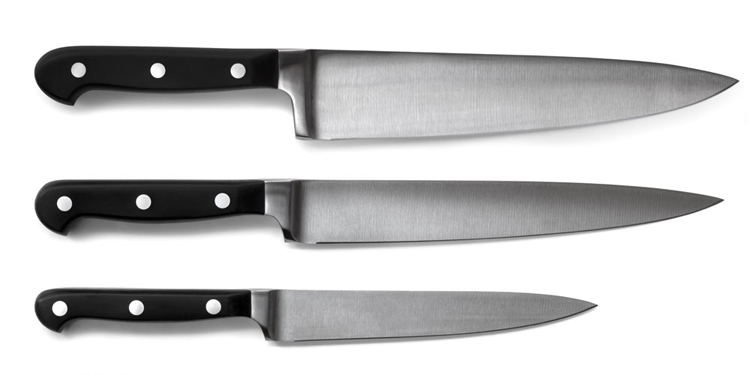knief: (20, 28, 743, 152)
